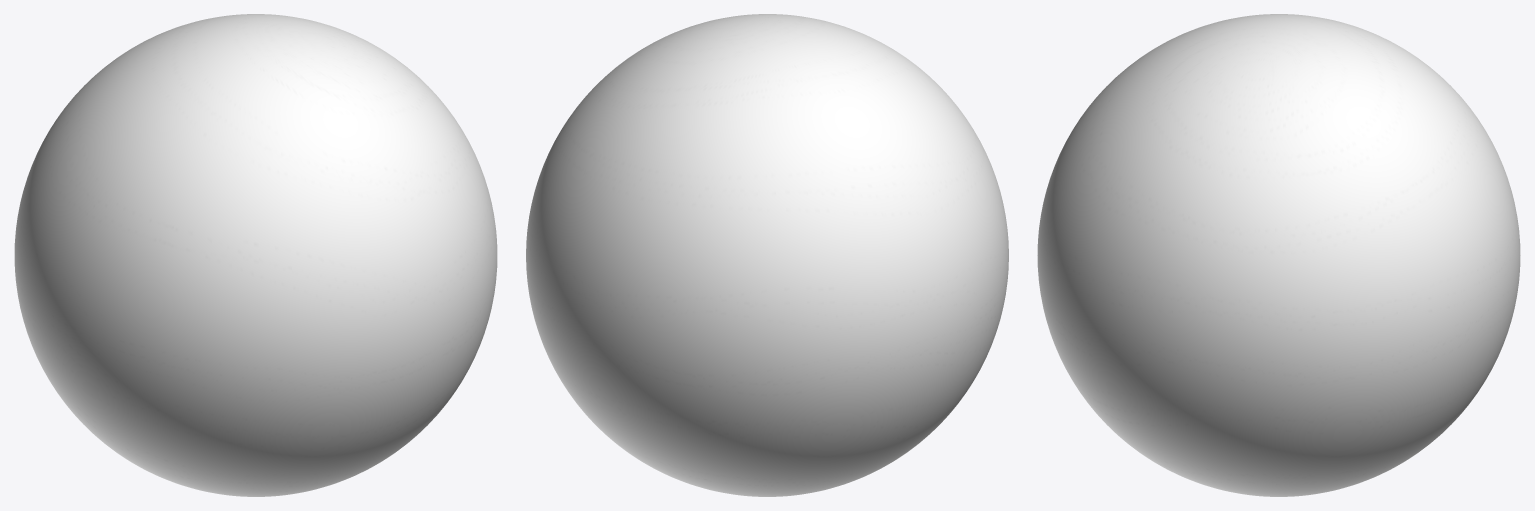
File: Globe2.fbx
The picture shows the model from 3 angles, left to right: view 1: azimuth 30°, elevation 25°; view 2: azimuth 150°, elevation 25°; view 3: azimuth 270°, elevation 25°; orthographic projection.
Visible parts, largest first — view 1: Sphere_001; view 2: Sphere_001; view 3: Sphere_001.
Boxes of the visible parts, x1,y1,x2,y2 form: Sphere_001: [14, 14, 497, 496]; Sphere_001: [526, 14, 1008, 496]; Sphere_001: [1037, 14, 1520, 496].
Bounding box in the file's own units: 2 × 2 × 2.
